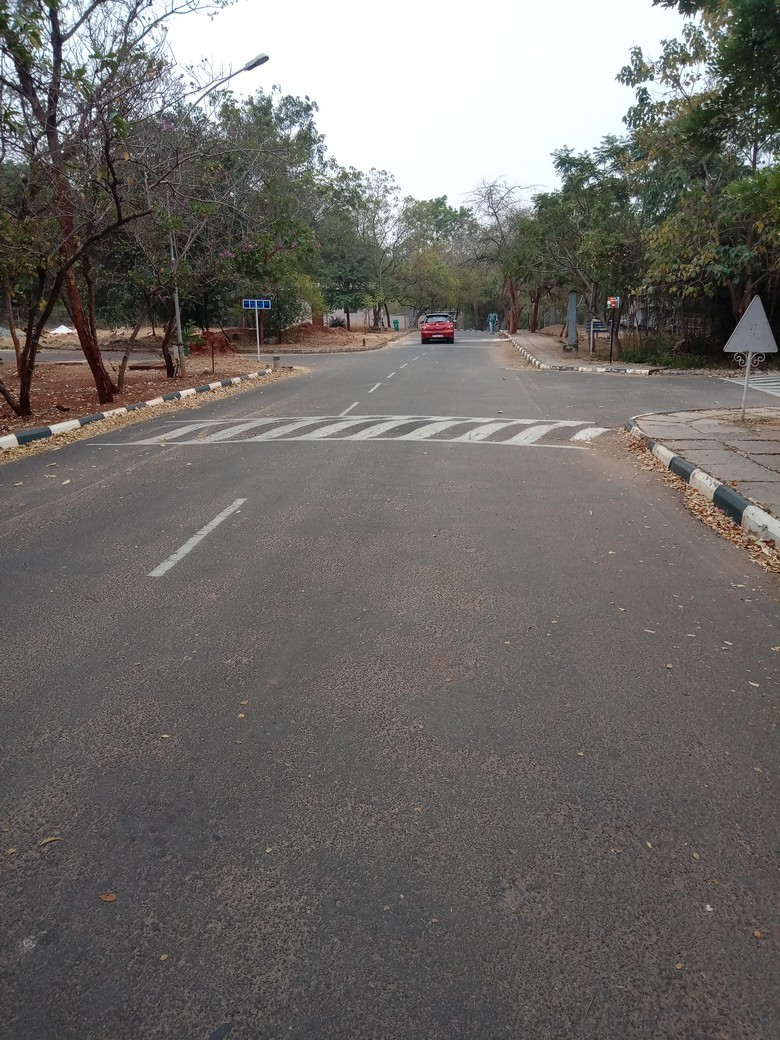bump: (75, 416, 641, 448)
